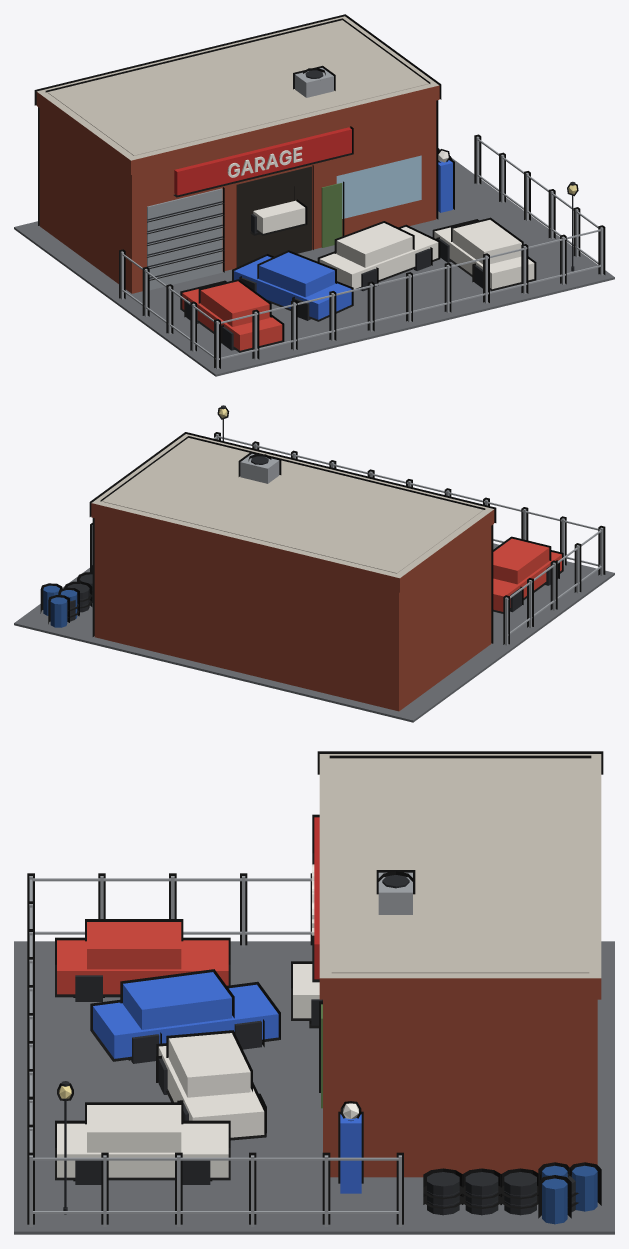
The model's file is Sanayi_garaj_tamirhane.fbx.
3 views of the same model, one above another, from view 1: azimuth 30°, elevation 25°; view 2: azimuth 150°, elevation 25°; view 3: azimuth 270°, elevation 25° (orthographic). The views are drawn at different scales.
Visible parts, largest first — view 1: Sanayi_garaj_tamirhane; view 2: Sanayi_garaj_tamirhane; view 3: Sanayi_garaj_tamirhane.
Boxes of the visible parts, x1,y1,x2,y2 form: Sanayi_garaj_tamirhane: (14, 14, 614, 376); Sanayi_garaj_tamirhane: (14, 405, 614, 722); Sanayi_garaj_tamirhane: (14, 751, 614, 1234).
Size of the model in its own units: 16 by 5.93 by 14.
